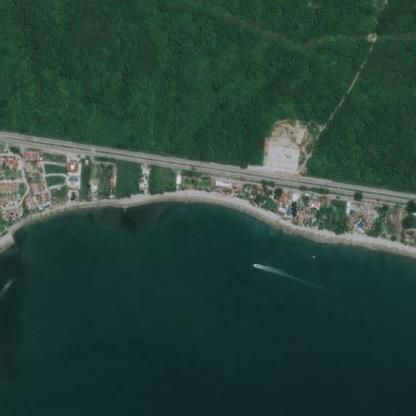ship: (245, 258, 272, 273)
